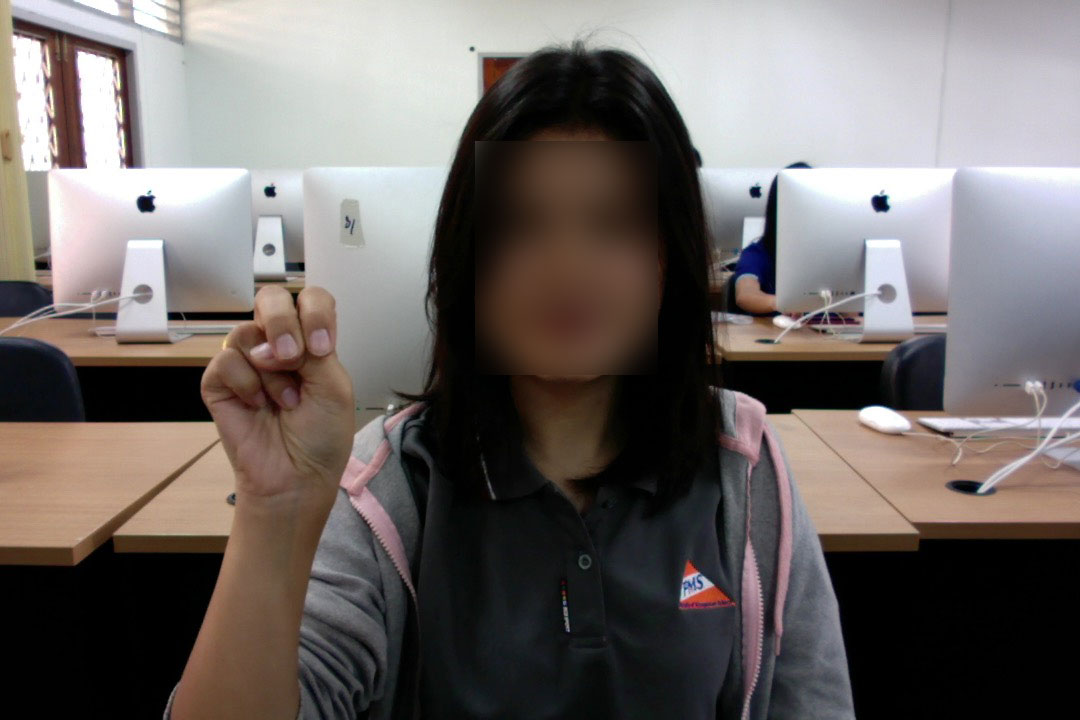nor: (194, 273, 365, 532)
